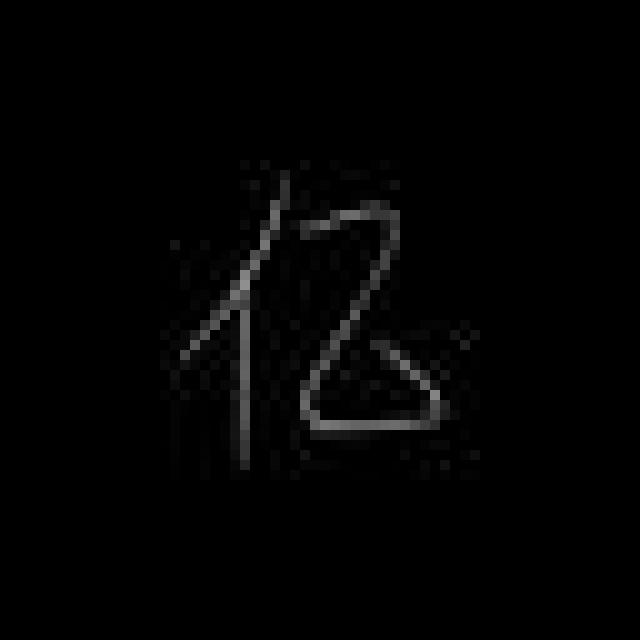100000 -a hundred thousand-: (172, 153, 451, 466)
